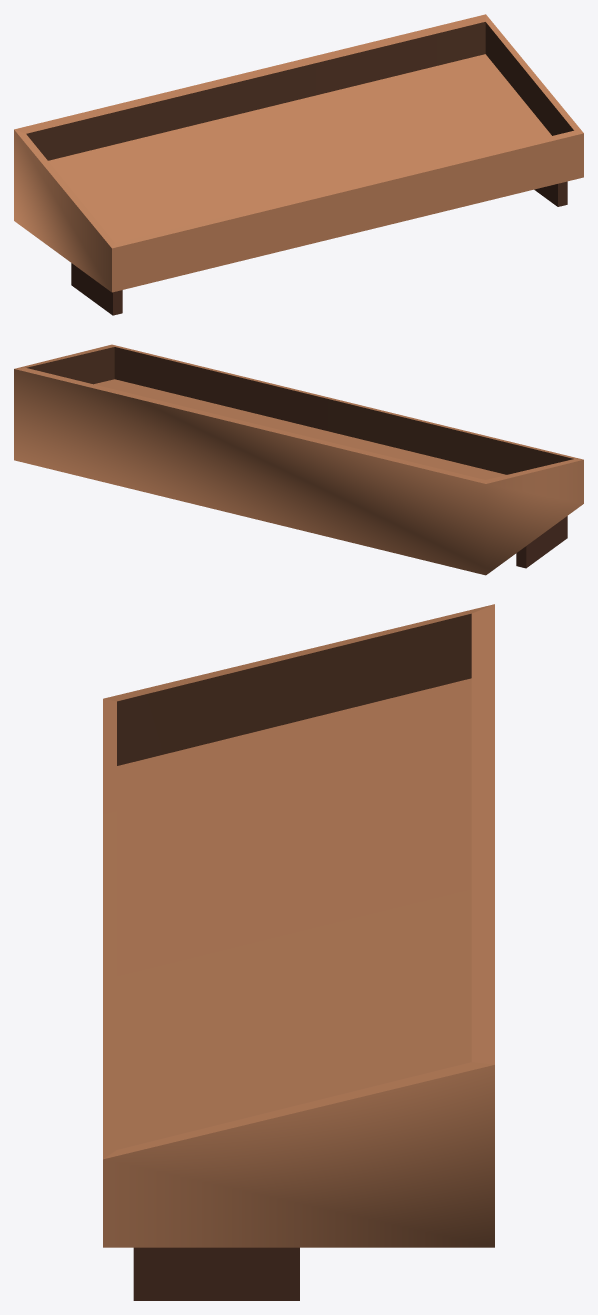
The model's file is pazar_tezgah.fbx.
3 renders of one model, top to bottom at view 1: azimuth 30°, elevation 25°; view 2: azimuth 150°, elevation 25°; view 3: azimuth 270°, elevation 25°, orthographic. The views are drawn at different scales.
Parts seen in each view (by area): view 1: pazar_tezgahi; view 2: pazar_tezgahi; view 3: pazar_tezgahi.
Boxes of the visible parts, bbox=[...] form: pazar_tezgahi: bbox=[14, 14, 583, 315]; pazar_tezgahi: bbox=[14, 344, 583, 575]; pazar_tezgahi: bbox=[103, 604, 494, 1300].
Size of the model in its own units: 427 by 106 by 154.
Materials: 1 (1 with a texture image).
